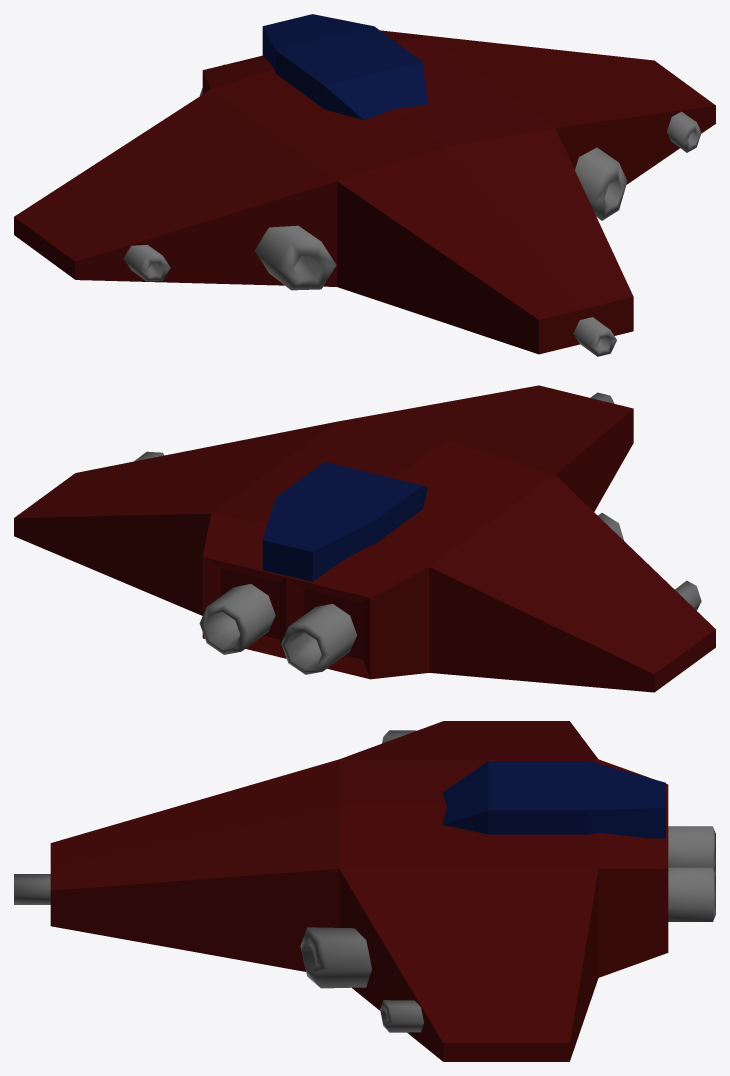
Rendered from ship.obj.
The picture shows the model from 3 angles, top to bottom: view 1: azimuth 30°, elevation 25°; view 2: azimuth 150°, elevation 25°; view 3: azimuth 270°, elevation 25°; orthographic projection. The views are drawn at different scales.
Parts seen in each view (by area): view 1: Cube, Cube.004, Cube.002; view 2: Cube, Cube.004, Cube.002; view 3: Cube, Cube.004, Cube.002.
Boxes of the visible parts, bbox=[...] form: Cube: bbox=[14, 30, 715, 354]; Cube.004: bbox=[262, 14, 427, 120]; Cube.002: bbox=[123, 64, 701, 356]; Cube: bbox=[14, 385, 715, 692]; Cube.004: bbox=[262, 461, 427, 581]; Cube.002: bbox=[134, 392, 701, 674]; Cube: bbox=[50, 721, 668, 1061]; Cube.004: bbox=[442, 761, 665, 838]; Cube.002: bbox=[14, 730, 715, 1032].
Size of the model in its own units: 13.03 by 2.75 by 12.01.
